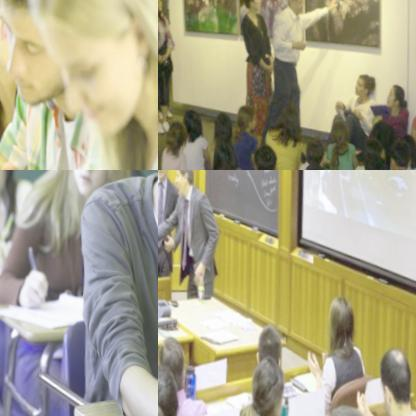head: (23, 0, 158, 146), (0, 0, 101, 127), (380, 333, 416, 415), (252, 348, 293, 416), (158, 326, 192, 387), (61, 170, 131, 199), (329, 281, 360, 343), (256, 313, 287, 368), (158, 360, 182, 416), (324, 392, 377, 416), (250, 137, 281, 170), (210, 137, 239, 170), (165, 118, 189, 152), (175, 170, 200, 198), (352, 68, 378, 94), (180, 108, 202, 138), (306, 133, 327, 164), (278, 98, 299, 128), (212, 110, 235, 137), (384, 75, 405, 104), (237, 99, 257, 128), (364, 147, 389, 170), (333, 112, 351, 143), (389, 137, 408, 166), (400, 125, 416, 157), (303, 158, 329, 170), (285, 0, 306, 11), (240, 0, 265, 9)
